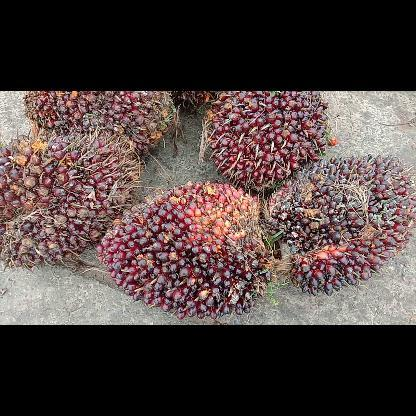Kurang masak: (92, 178, 284, 324), (259, 152, 415, 296), (0, 127, 141, 272), (201, 91, 333, 191), (20, 91, 180, 165)
